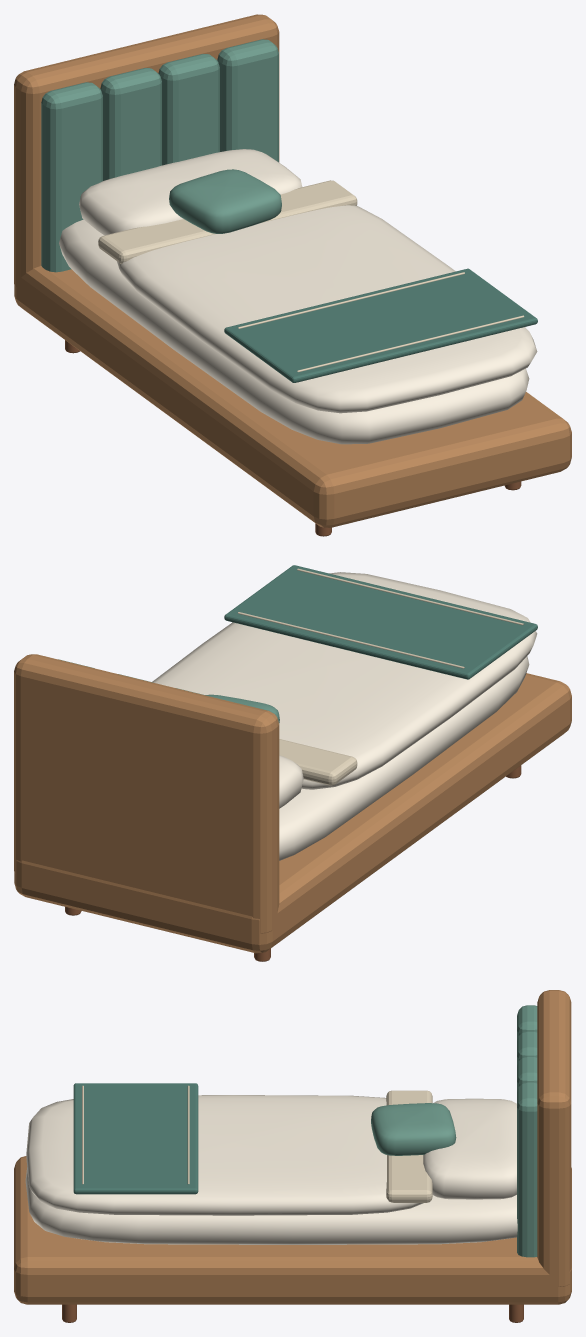
Rendered from standard-single-bed.glb.
The picture shows the model from 3 angles, top to bottom: view 1: azimuth 30°, elevation 25°; view 2: azimuth 150°, elevation 25°; view 3: azimuth 270°, elevation 25°; orthographic projection. The views are drawn at different scales.
Visible parts, largest first — view 1: standard-single-bed / Warm linen, standard-single-bed / Oak, standard-single-bed / Sea glass upholstery, standard-single-bed / Sea glass runner, standard-single-bed / Linen shadow; view 2: standard-single-bed / Oak, standard-single-bed / Warm linen, standard-single-bed / Sea glass runner, standard-single-bed / Linen shadow, standard-single-bed / Sea glass upholstery; view 3: standard-single-bed / Warm linen, standard-single-bed / Oak, standard-single-bed / Sea glass runner, standard-single-bed / Sea glass upholstery, standard-single-bed / Linen shadow, standard-single-bed / Oak endgrain.
Part boxes in pixels (x1,y1,x2,y2): standard-single-bed / Warm linen: (59,149,537,444); standard-single-bed / Oak: (14,14,571,527); standard-single-bed / Sea glass upholstery: (41,39,281,272); standard-single-bed / Sea glass runner: (224,268,537,382); standard-single-bed / Linen shadow: (98,180,524,372); standard-single-bed / Oak: (14,654,571,953); standard-single-bed / Warm linen: (152,572,537,860); standard-single-bed / Sea glass runner: (224,565,537,679); standard-single-bed / Linen shadow: (238,568,524,785); standard-single-bed / Sea glass upholstery: (58,659,279,723); standard-single-bed / Warm linen: (25,1095,517,1244); standard-single-bed / Oak: (14,990,571,1304); standard-single-bed / Sea glass runner: (73,1083,198,1194); standard-single-bed / Sea glass upholstery: (371,1005,537,1257); standard-single-bed / Linen shadow: (82,1085,432,1202); standard-single-bed / Oak endgrain: (62,1304,523,1322).
Bounding box in the file's own units: 1.95 × 1.94 × 4.12.
